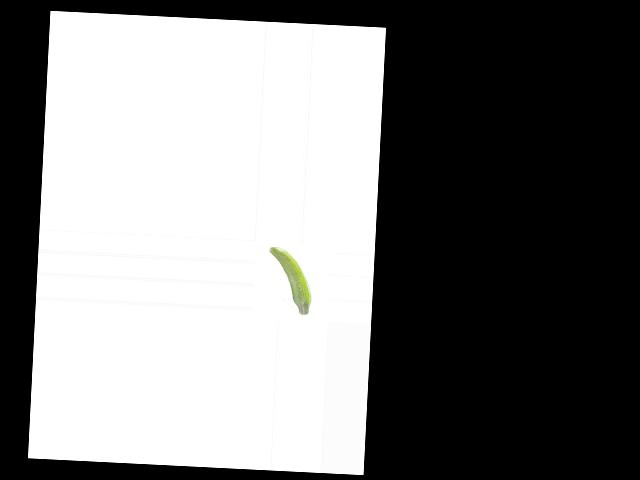cucumber: (265, 246, 313, 316)
